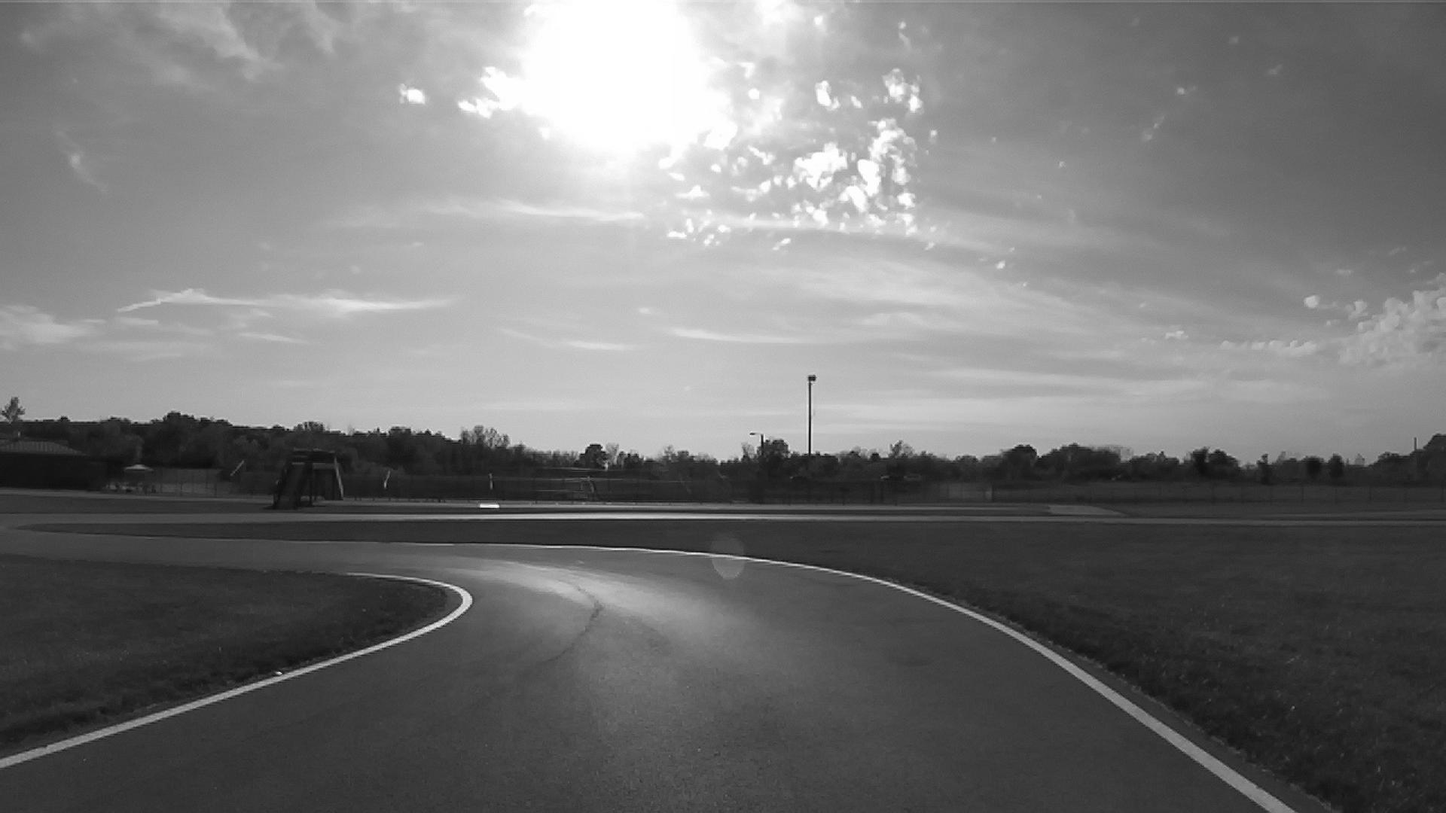white-line: (742, 557, 1296, 812), (0, 572, 472, 770), (539, 545, 699, 553)
